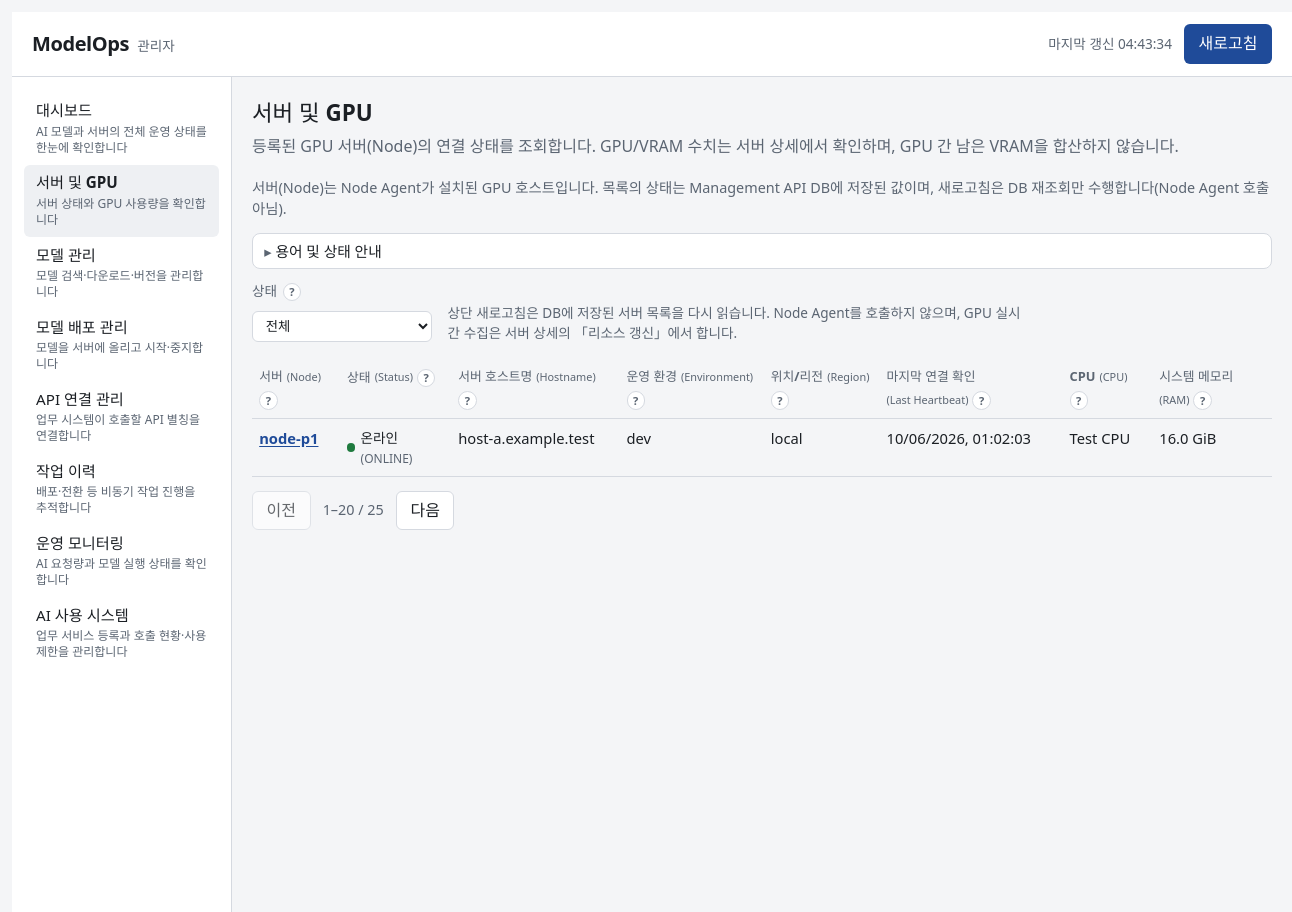
Test: NodesPage › supports next/previous pagination
Expected: the link "node-p1" is shown, [259, 428, 318, 448]
Expected: the text "1–20 / 25" is shown, [323, 500, 384, 521]
Click the button "다음" at (425, 511), box [396, 491, 454, 530]
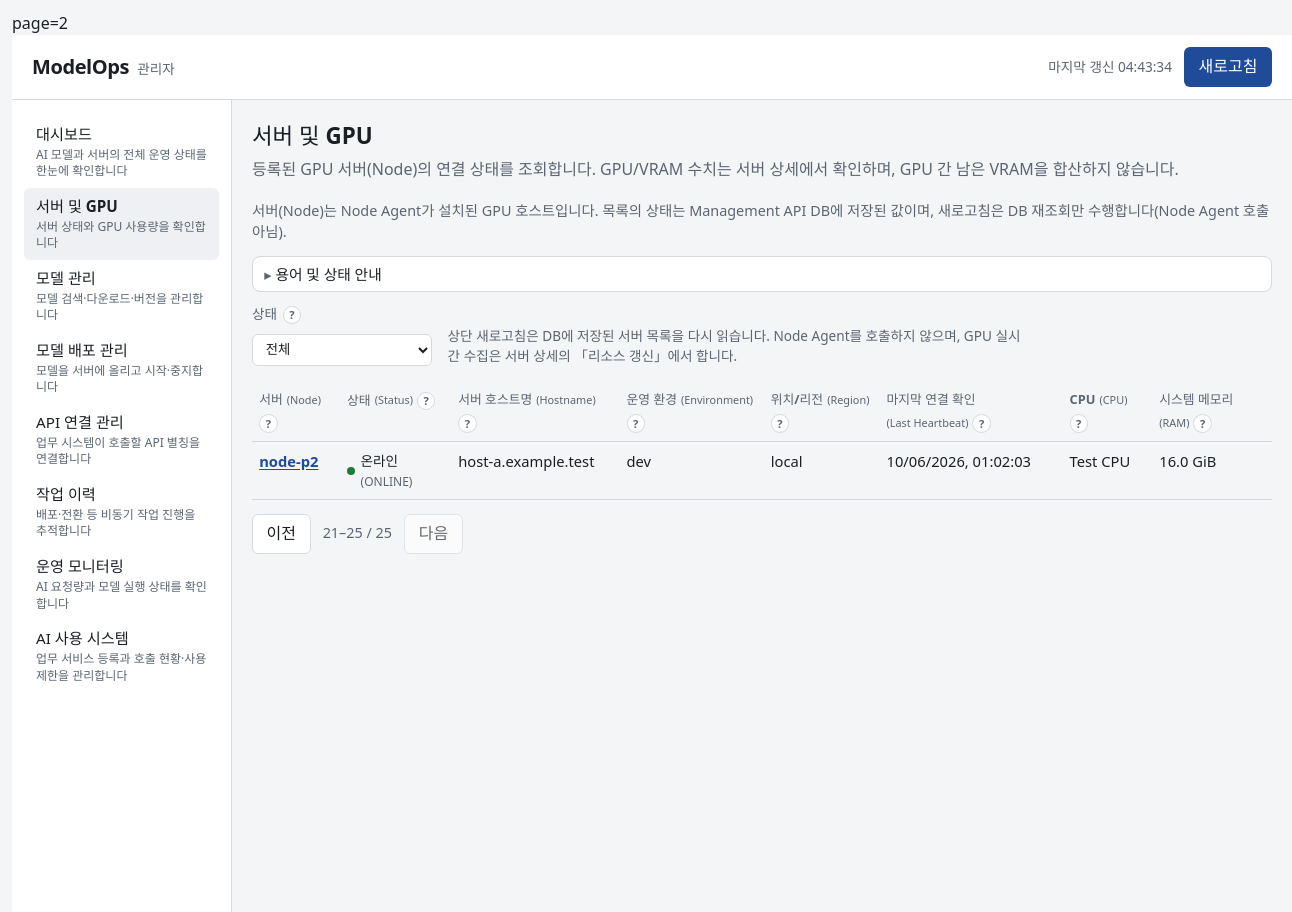
Expected: the link "node-p2" is shown, [259, 451, 318, 471]
Click the button "이전" at (281, 534), box [252, 514, 311, 554]
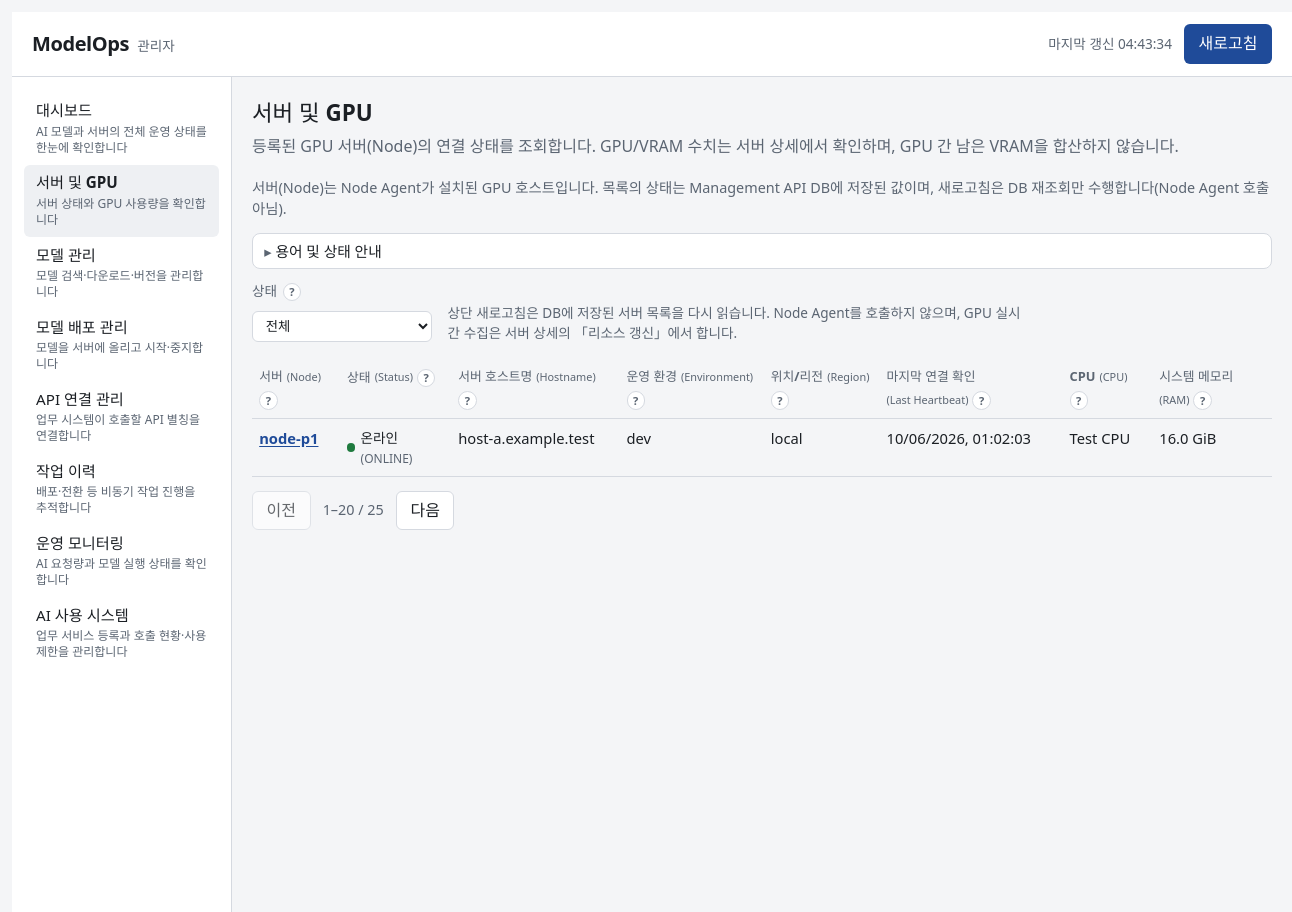
Expected: the link "node-p1" is shown, [259, 428, 318, 448]
